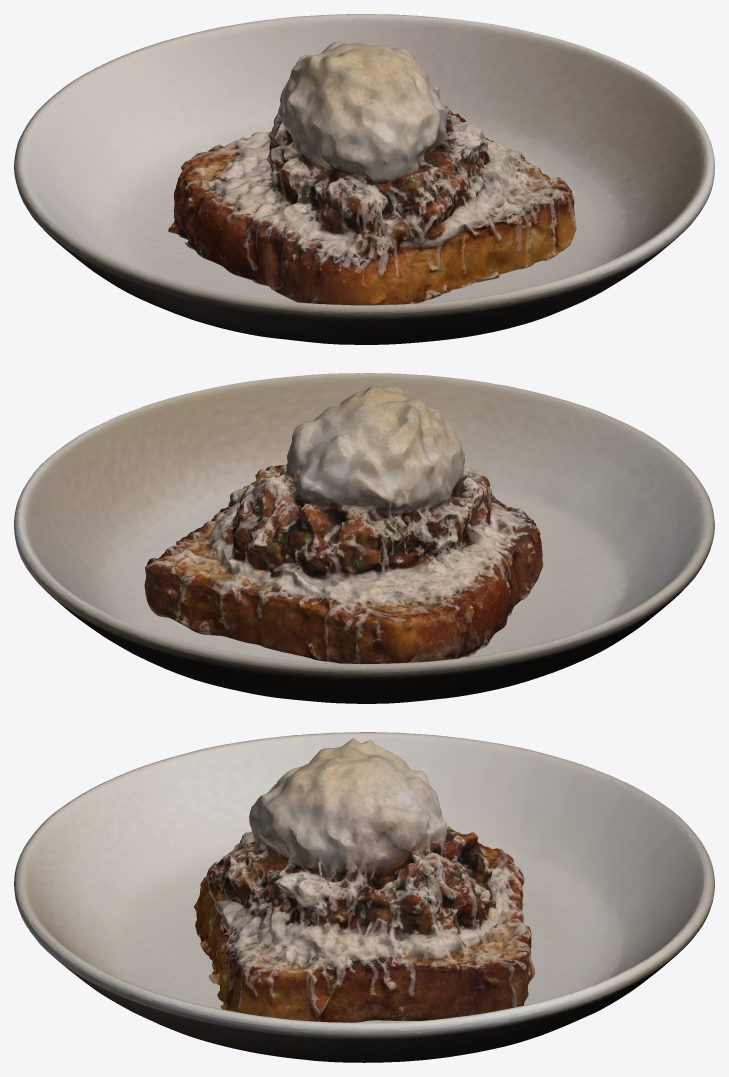
The model's file is frenchtoast.001.glb.
3 renders of one model, top to bottom at view 1: azimuth 30°, elevation 25°; view 2: azimuth 150°, elevation 25°; view 3: azimuth 270°, elevation 25°, orthographic.
Visible parts, largest first — view 1: /Root/Scenes/Scene/Object_50/Object_54/Object_55/Submesh_0, /Root/Scenes/Scene/Object_50/Object_51/Submesh_0; view 2: /Root/Scenes/Scene/Object_50/Object_54/Object_55/Submesh_0, /Root/Scenes/Scene/Object_50/Object_51/Submesh_0; view 3: /Root/Scenes/Scene/Object_50/Object_54/Object_55/Submesh_0, /Root/Scenes/Scene/Object_50/Object_51/Submesh_0.
Boxes of the visible parts, x1,y1,x2,y2 form: /Root/Scenes/Scene/Object_50/Object_54/Object_55/Submesh_0: (14, 14, 714, 344); /Root/Scenes/Scene/Object_50/Object_51/Submesh_0: (168, 41, 576, 305); /Root/Scenes/Scene/Object_50/Object_54/Object_55/Submesh_0: (14, 373, 714, 703); /Root/Scenes/Scene/Object_50/Object_51/Submesh_0: (144, 386, 543, 663); /Root/Scenes/Scene/Object_50/Object_54/Object_55/Submesh_0: (14, 732, 714, 1062); /Root/Scenes/Scene/Object_50/Object_51/Submesh_0: (194, 738, 535, 1022).
Size of the model in its own units: 0.2224 by 0.0729 by 0.2224.
Materials: 2 (2 with a texture image).
